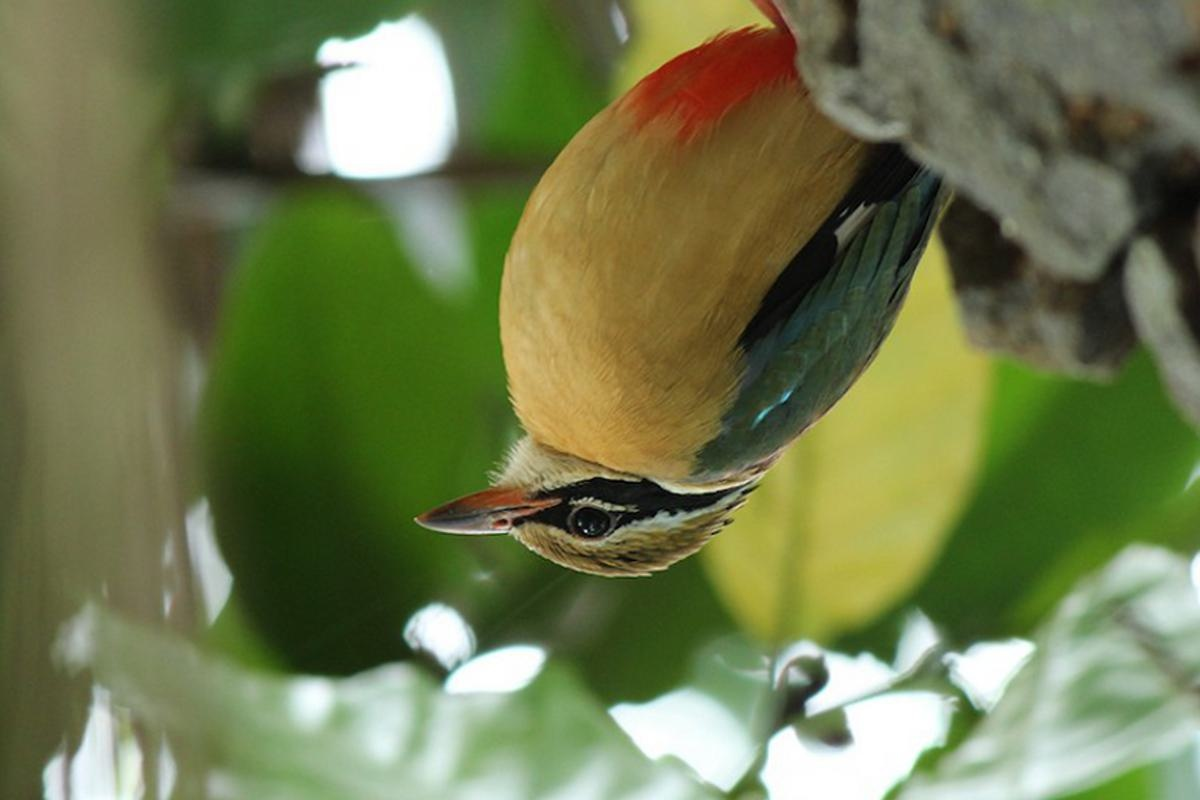pitta: (403, 54, 1000, 603)
